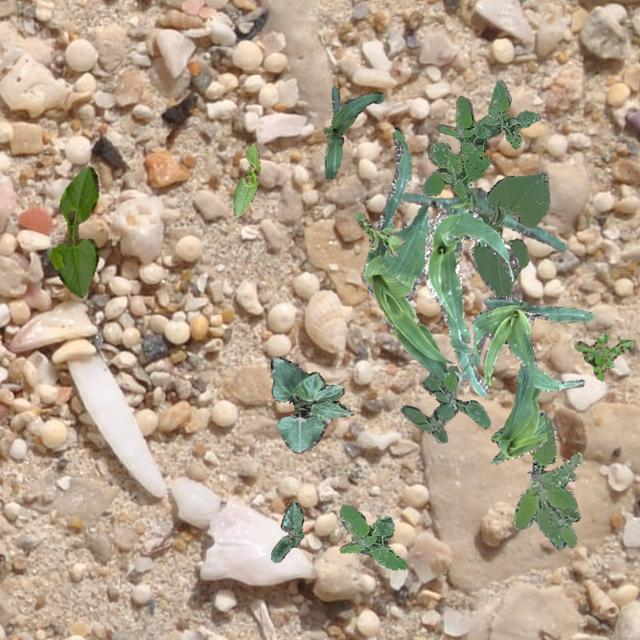crop: (360, 126, 450, 380), (424, 206, 518, 398), (458, 294, 592, 390), (400, 187, 566, 250), (471, 170, 548, 296), (270, 356, 352, 452), (48, 165, 98, 296), (489, 362, 546, 462), (322, 86, 382, 178), (270, 501, 302, 562), (232, 142, 258, 215)
weed: (420, 78, 540, 202), (512, 410, 582, 548), (400, 364, 490, 442), (338, 504, 406, 568), (574, 332, 632, 379), (354, 212, 402, 255)
